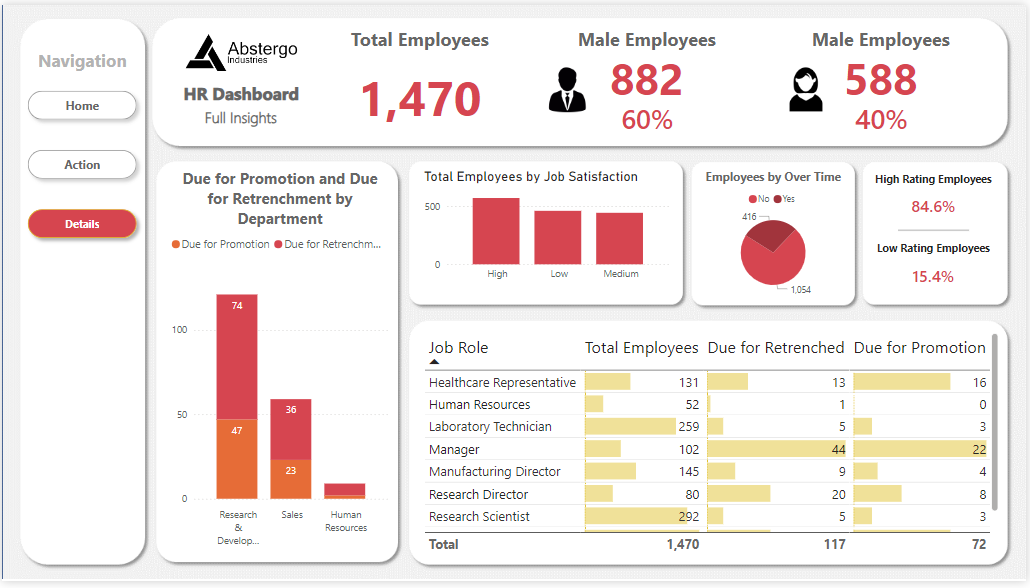

This screenshot's page, from the dashboard's own definition file:
{"tool":"powerbi","page":{"name":"Details","canvas":[1280,720],"ordinal":2},"visuals":[{"type":"textbox","box":[206.2,91.1,185.7,42.2],"z":0},{"type":"image","box":[217.6,27.3,162.9,63.8],"z":1000},{"type":"textbox","box":[239.2,123,119.6,43.3],"z":2000},{"type":"card","title":"Total Employees","fields":{"Values":["Measure Table._Total Employees"]},"box":[422.8,27,199.2,140.1],"z":3000},{"type":"card","title":"Male Employees","fields":{"Values":["Measure Table._Male Employees"]},"box":[706.3,27.3,199.4,95.7],"z":4000},{"type":"card","title":"Male Employees","fields":{"Values":["Measure Table._Male Emp %"]},"box":[758.7,121.9,95.7,38.7],"z":5000},{"type":"card","title":"Male Employees","fields":{"Values":["Measure Table._Female Employees"]},"box":[999.1,27.3,199.4,95.7],"z":6000},{"type":"card","title":"Male Employees","fields":{"Values":["Measure Table._Female Emp %"]},"box":[1058.4,123,80.9,38.7],"z":7000},{"type":"image","box":[673.3,69.5,66.1,71.8],"z":8000},{"type":"image","box":[972.9,69.5,64.9,71.8],"z":9000},{"type":"columnChart","fields":{"Category":["HR Analytics Data.Department"],"Y":["Measure Table._Due for Promotion","Measure Table._Retrenched"]},"box":[206.2,203.9,282.5,480.8],"z":10000},{"type":"columnChart","fields":{"Category":["HR Analytics Data.Job Satisfaction"],"Y":["Measure Table._Total Employees"]},"box":[522.9,203.9,317.8,150.4],"z":11000},{"type":"pieChart","title":"Employees by Over Time","fields":{"Category":["HR Analytics Data.OverTime"],"Y":["Measure Table._Total Employees"]},"box":[870.4,203.9,188,164.1],"z":12000},{"type":"tableEx","fields":{"Values":["HR Analytics Data.JobRole","Measure Table._Total Employees","Measure Table._Retrenched","Measure Table._Due for Promotion"]},"box":[522.9,405.6,728,287.1],"z":13000},{"type":"card","title":"High Rating Employee","fields":{"Values":["Measure Table._High Rate Emp %"]},"box":[1110.8,238.1,105.9,30.8],"z":14000},{"type":"card","title":"Male Employees","fields":{"Values":["Measure Table._Low Rate Emp %"]},"box":[1110.8,320.1,105.9,39.9],"z":15000},{"type":"textbox","box":[1077.7,203.9,173.2,34.2],"z":16000},{"type":"textbox","box":[1077.7,290.5,173.2,36.5],"z":17000},{"type":"shape","box":[1119.9,279.1,88.9,5.7],"z":18000},{"type":"pageNavigator","box":[21.6,96.8,158.4,206.2],"z":18001},{"type":"textbox","box":[21.6,50.1,158.4,37.6],"z":18002}]}

Visuals, with their boxes in screenshot pixels (x1, y1, x2, y2), scaled from the page's 1280x720 canvas onto the 1030x588 screenshot:
textbox: Rect(166, 74, 315, 109)
image: Rect(175, 22, 306, 74)
textbox: Rect(192, 100, 289, 136)
"Total Employees" card: Rect(340, 22, 501, 136)
"Male Employees" card: Rect(568, 22, 729, 100)
"Male Employees" card: Rect(611, 100, 688, 131)
"Male Employees" card: Rect(804, 22, 964, 100)
"Male Employees" card: Rect(852, 100, 917, 132)
image: Rect(542, 57, 595, 115)
image: Rect(783, 57, 835, 115)
columnChart - HR Analytics Data.Department x Measure Table._Due for Promotion: Rect(166, 167, 393, 559)
columnChart - HR Analytics Data.Job Satisfaction x Measure Table._Total Employees: Rect(421, 167, 677, 289)
"Employees by Over Time" pieChart: Rect(700, 167, 852, 301)
tableEx - HR Analytics Data.JobRole x Measure Table._Total Employees: Rect(421, 331, 1007, 566)
"High Rating Employee" card: Rect(894, 194, 979, 220)
"Male Employees" card: Rect(894, 261, 979, 294)
textbox: Rect(867, 167, 1007, 194)
textbox: Rect(867, 237, 1007, 267)
shape: Rect(901, 228, 973, 233)
pageNavigator: Rect(17, 79, 145, 247)
textbox: Rect(17, 41, 145, 72)
